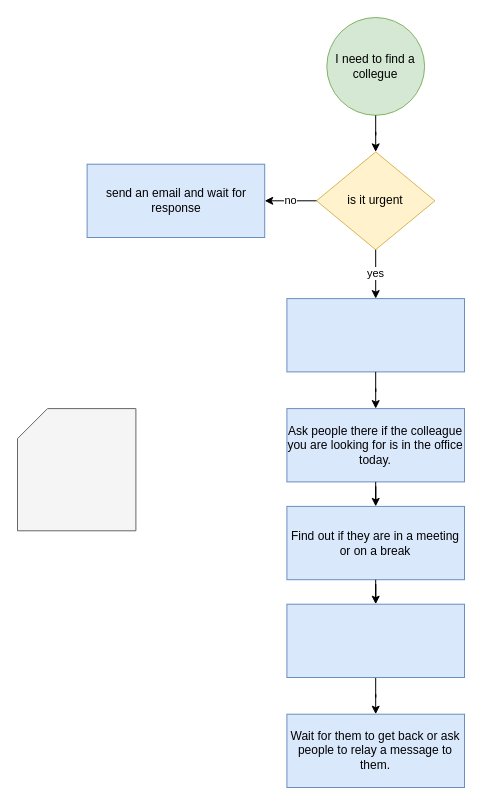
This 482x805 diagram has some shape labels left out. Here are the shapes that lost their labels. From the top down, the box of each, then its label:
(286, 298, 464, 372): Find and go to the floor they are usually situated on
(16, 408, 136, 531): Should take around 15-25 minutes
(286, 603, 464, 678): ask for contact information
